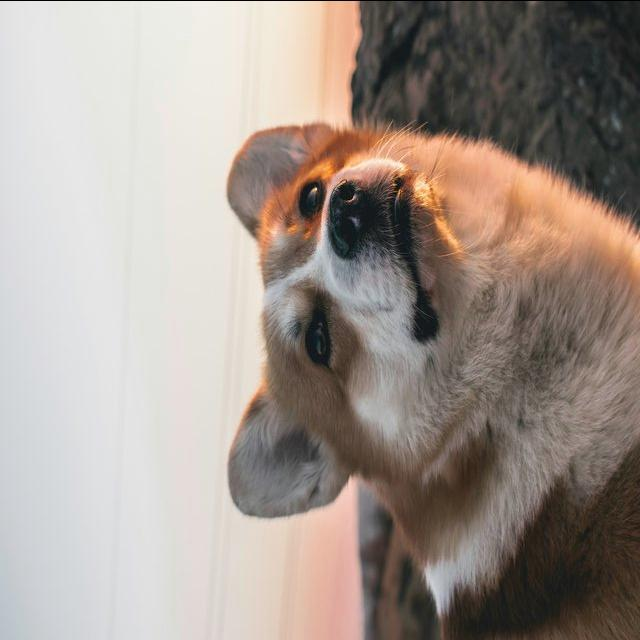corgi: (223, 117, 638, 640)
